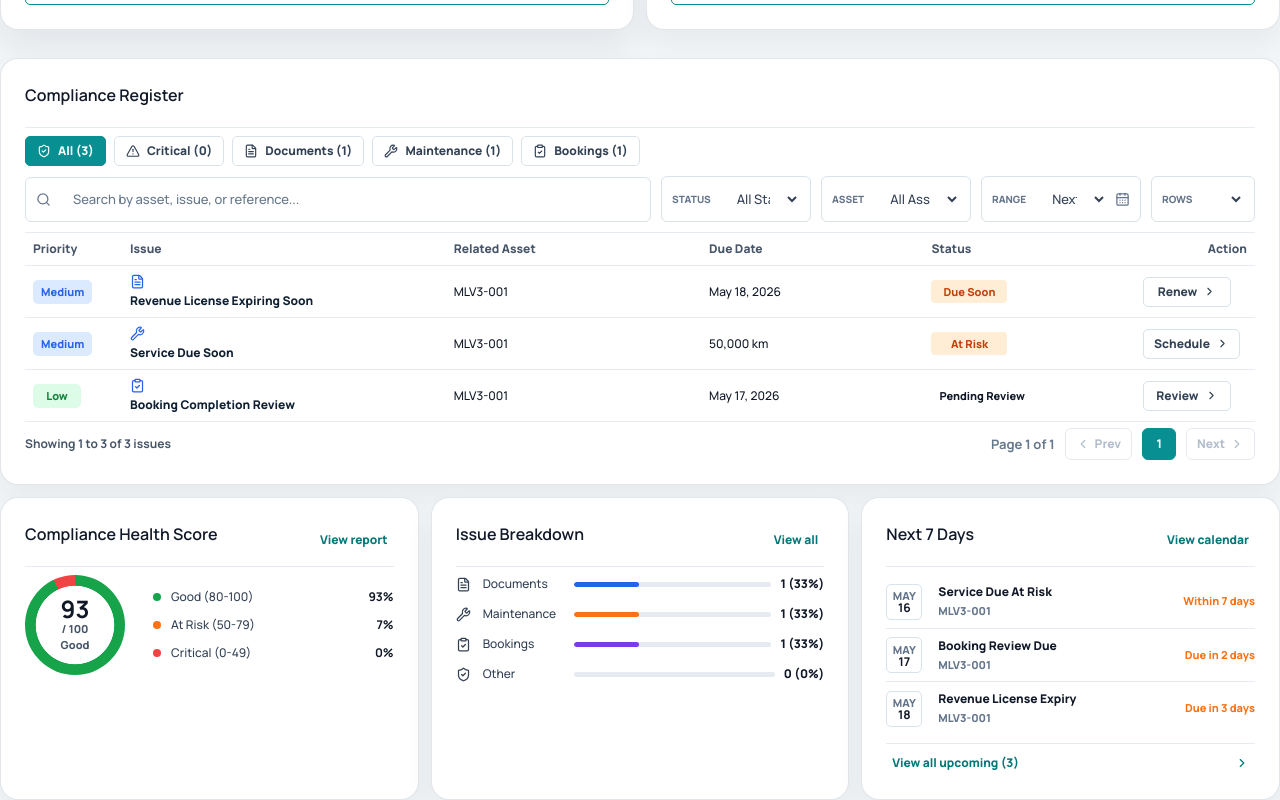
it: Compliance page actions › opens next seven days calendar and can apply the register range
(page scrolled)
Click the button "View calendar". click: {"x": 1208, "y": 540}
box: [1161,530,1255,550]
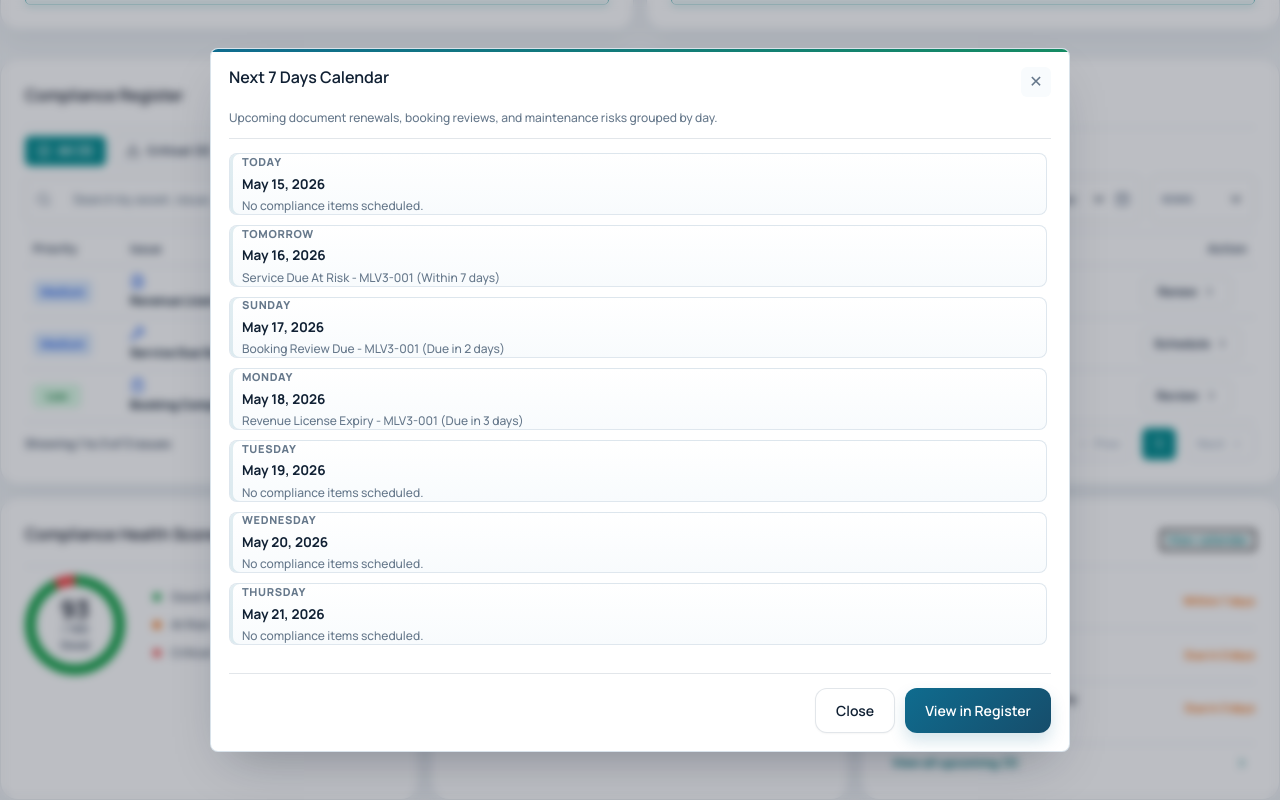
Expected: the heading "Next 7 Days Calendar" is shown, [229,66,389,88]
Click the button "View in Register". click: {"x": 978, "y": 710}
box: [905,688,1051,733]
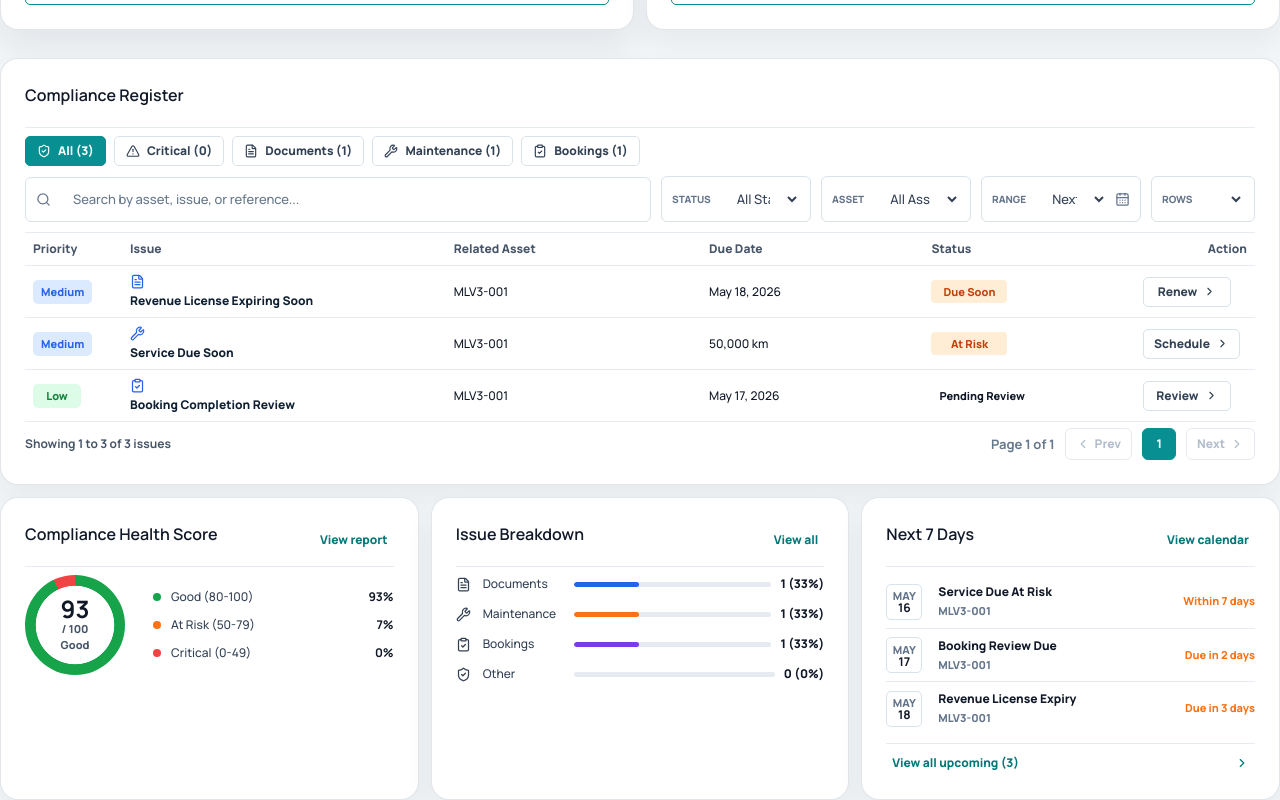
Expected: the dropdown labelled "Range" shows "Next 7 Days", [1034,178,1107,222]
